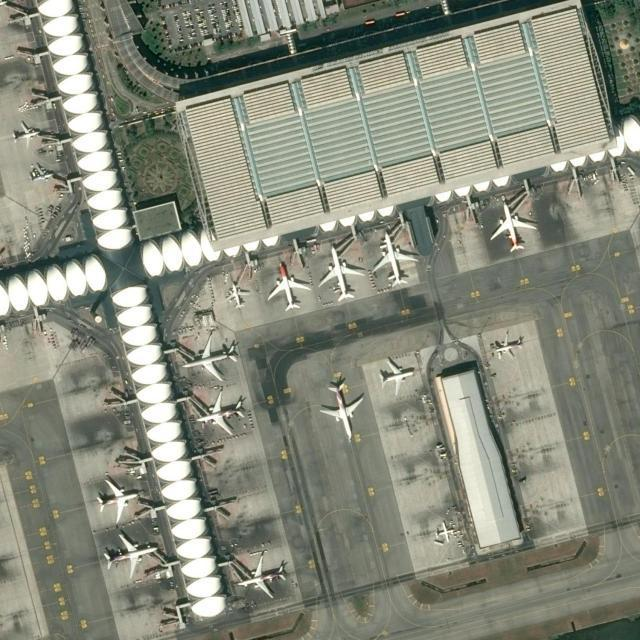Aircraft: (317, 378, 368, 439), (371, 230, 419, 290), (184, 332, 238, 383), (489, 199, 537, 254), (267, 258, 312, 314), (107, 531, 158, 579), (322, 245, 364, 303), (239, 553, 290, 598), (197, 392, 248, 435), (95, 476, 141, 522), (378, 355, 416, 393), (494, 331, 524, 359), (14, 118, 42, 148), (226, 277, 249, 310), (27, 164, 57, 186), (436, 520, 455, 543)
